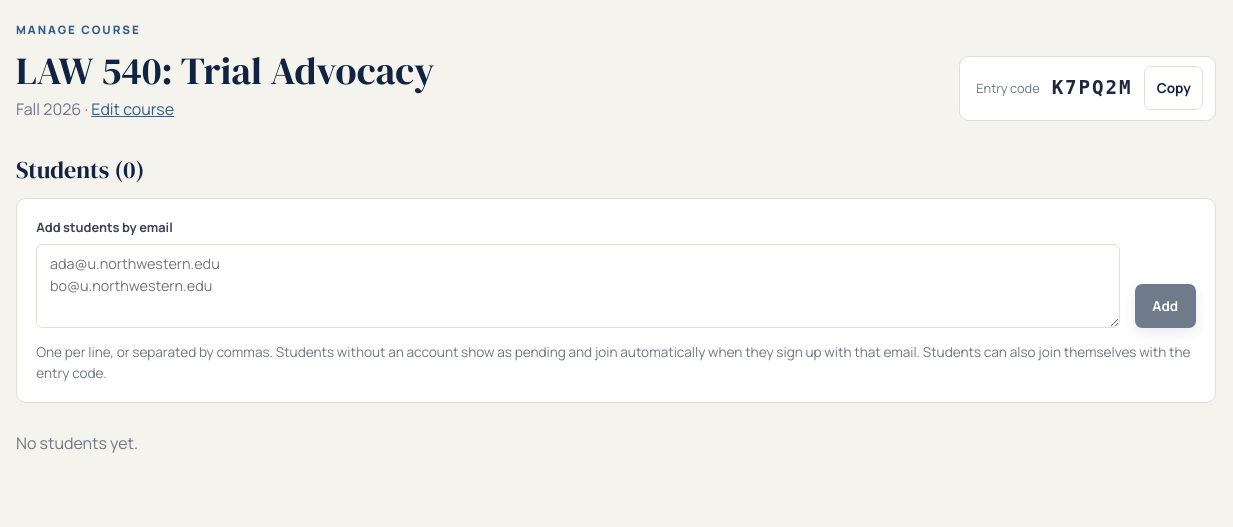
editing and deleting › keeps the form open with the error if saving fails, and cancel restores the header
Click the button "Edit course" at {"x": 133, "y": 109}, box x1=91 y1=97 x2=174 y2=121
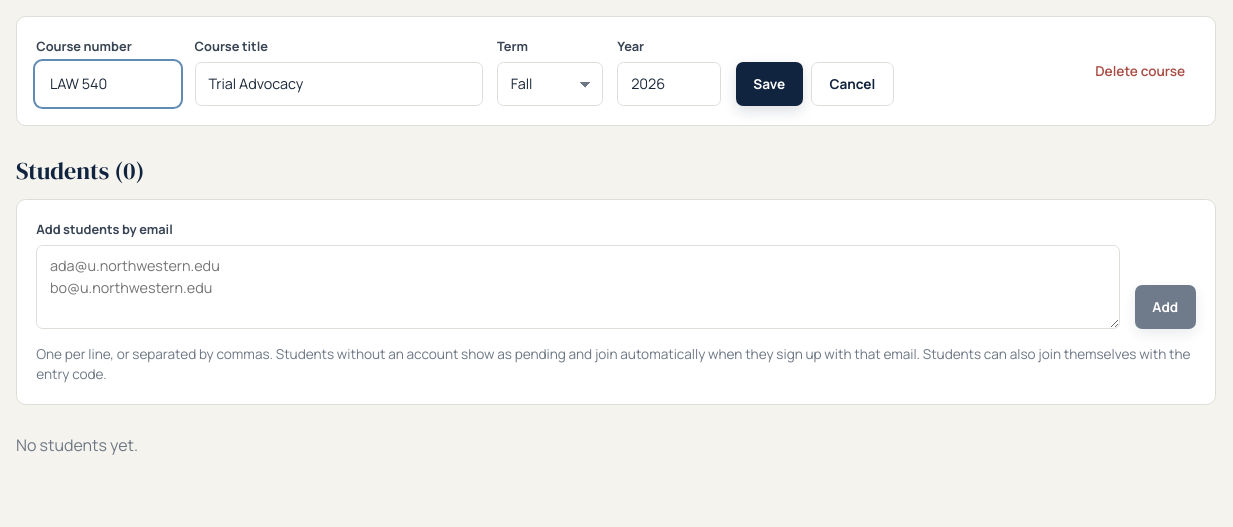
Click the button "Save" at {"x": 769, "y": 84}, box x1=736 y1=62 x2=803 y2=106
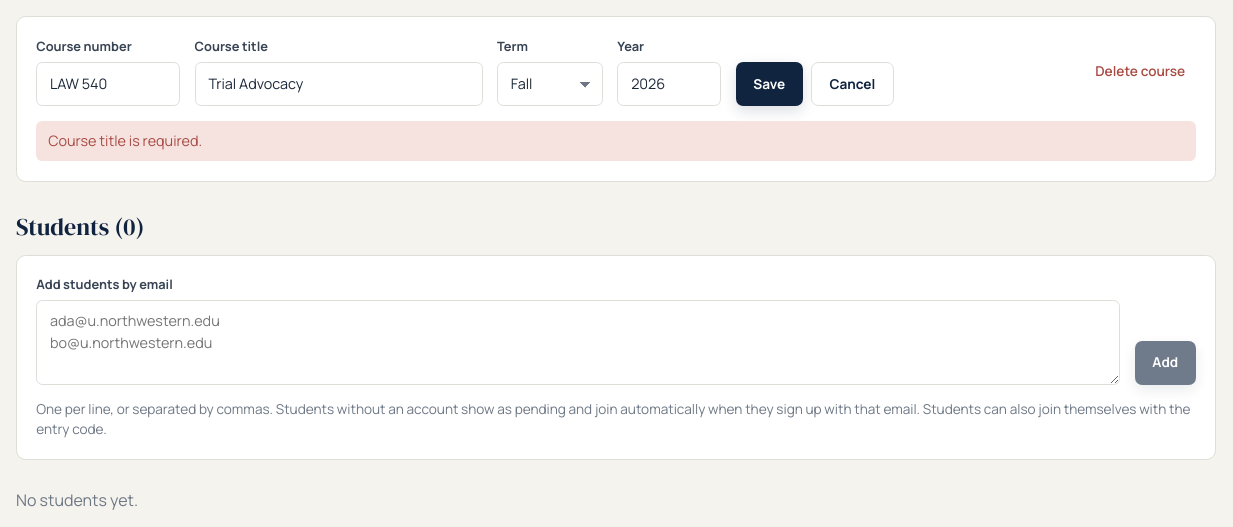
Expected: the message reads "Course title is required.", x1=48 y1=131 x2=202 y2=150
Click the button "Cancel" at {"x": 852, "y": 84}, box x1=811 y1=62 x2=894 y2=106
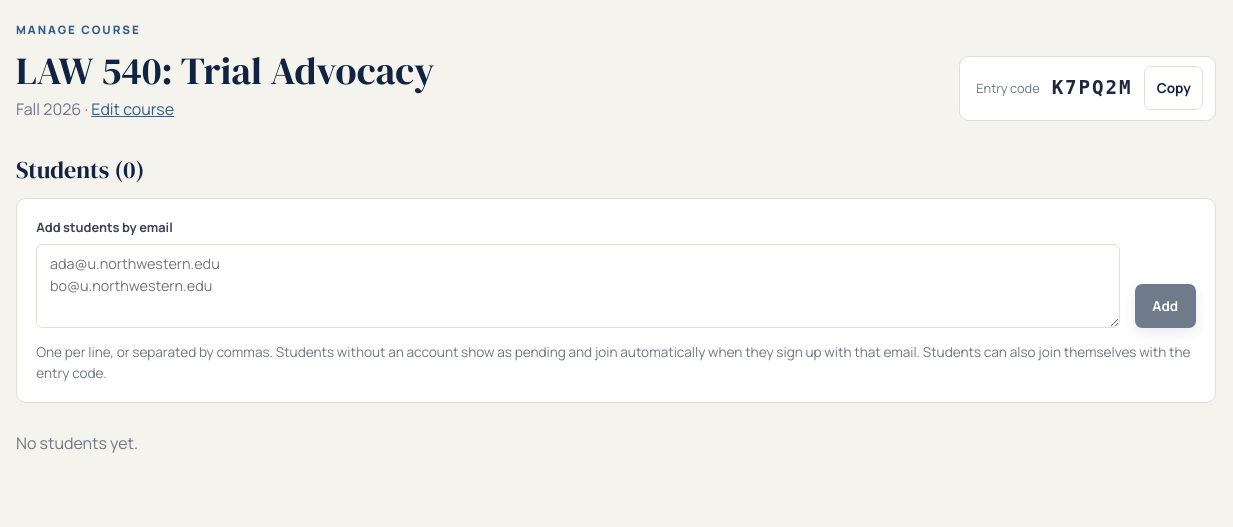
Expected: the heading "LAW 540: Trial Advocacy" is shown, x1=16 y1=48 x2=435 y2=94
